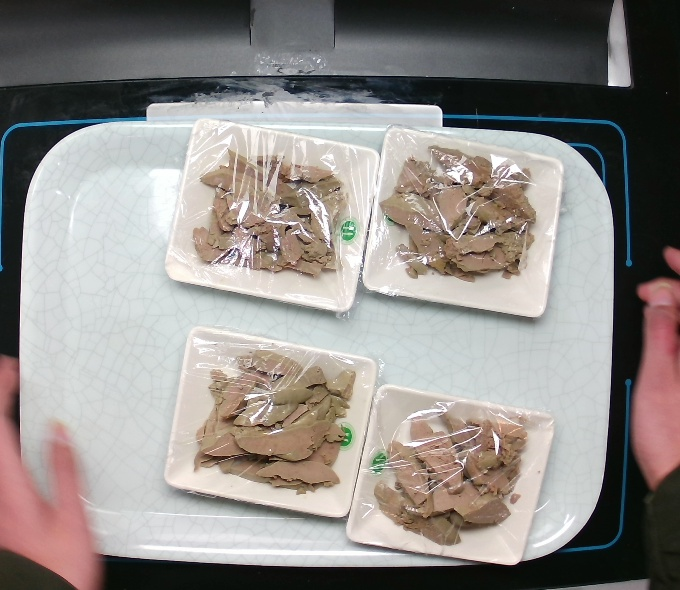wcq-EGan: (184, 345, 363, 496), (377, 141, 541, 287), (186, 145, 356, 284), (369, 409, 535, 549)
